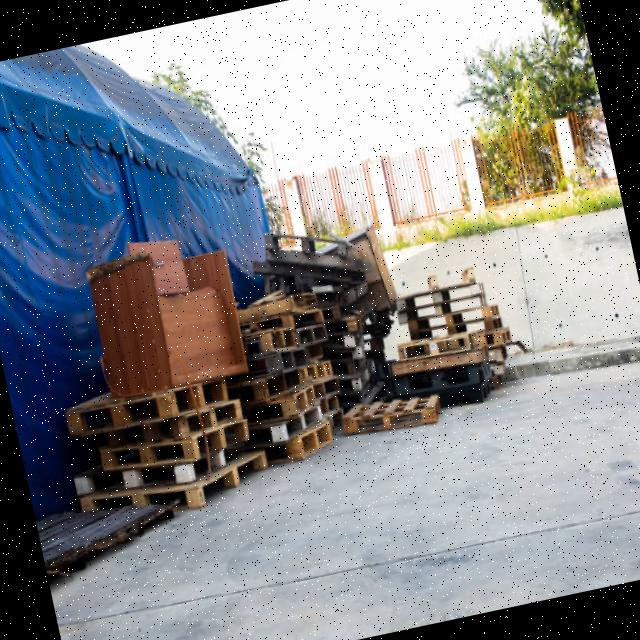Wooden-Pallets: (81, 441, 271, 525), (90, 419, 258, 481), (91, 394, 250, 457), (339, 396, 443, 444), (395, 327, 477, 372), (290, 414, 340, 470)
